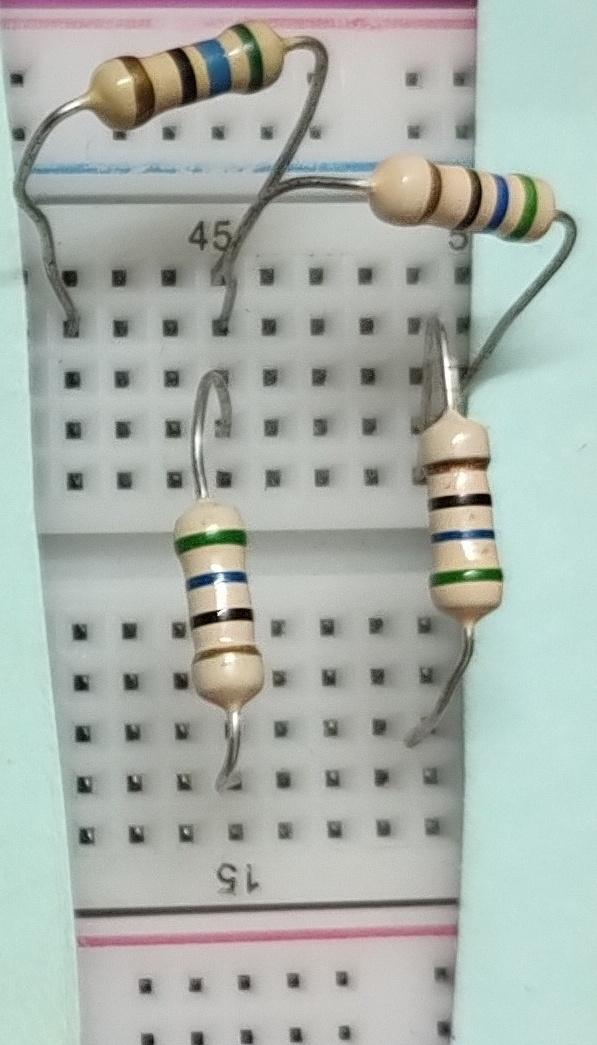resistor: (69, 15, 292, 134), (159, 493, 272, 717), (413, 399, 507, 623), (355, 151, 552, 244)
